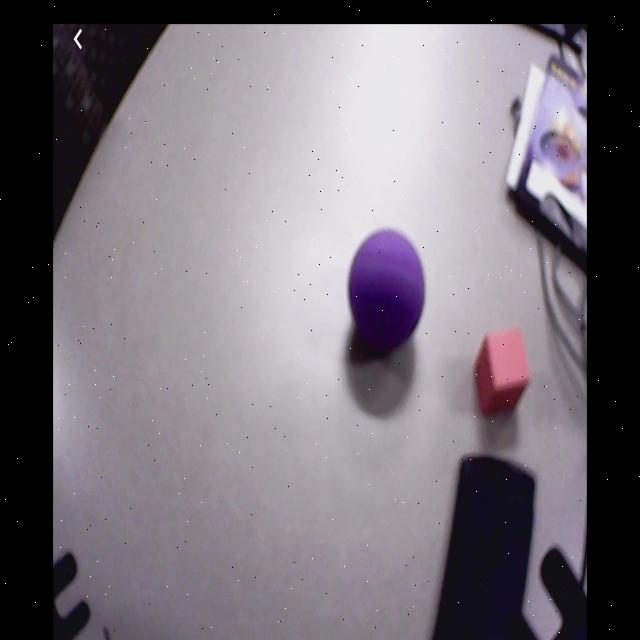ball: (348, 229, 425, 344)
